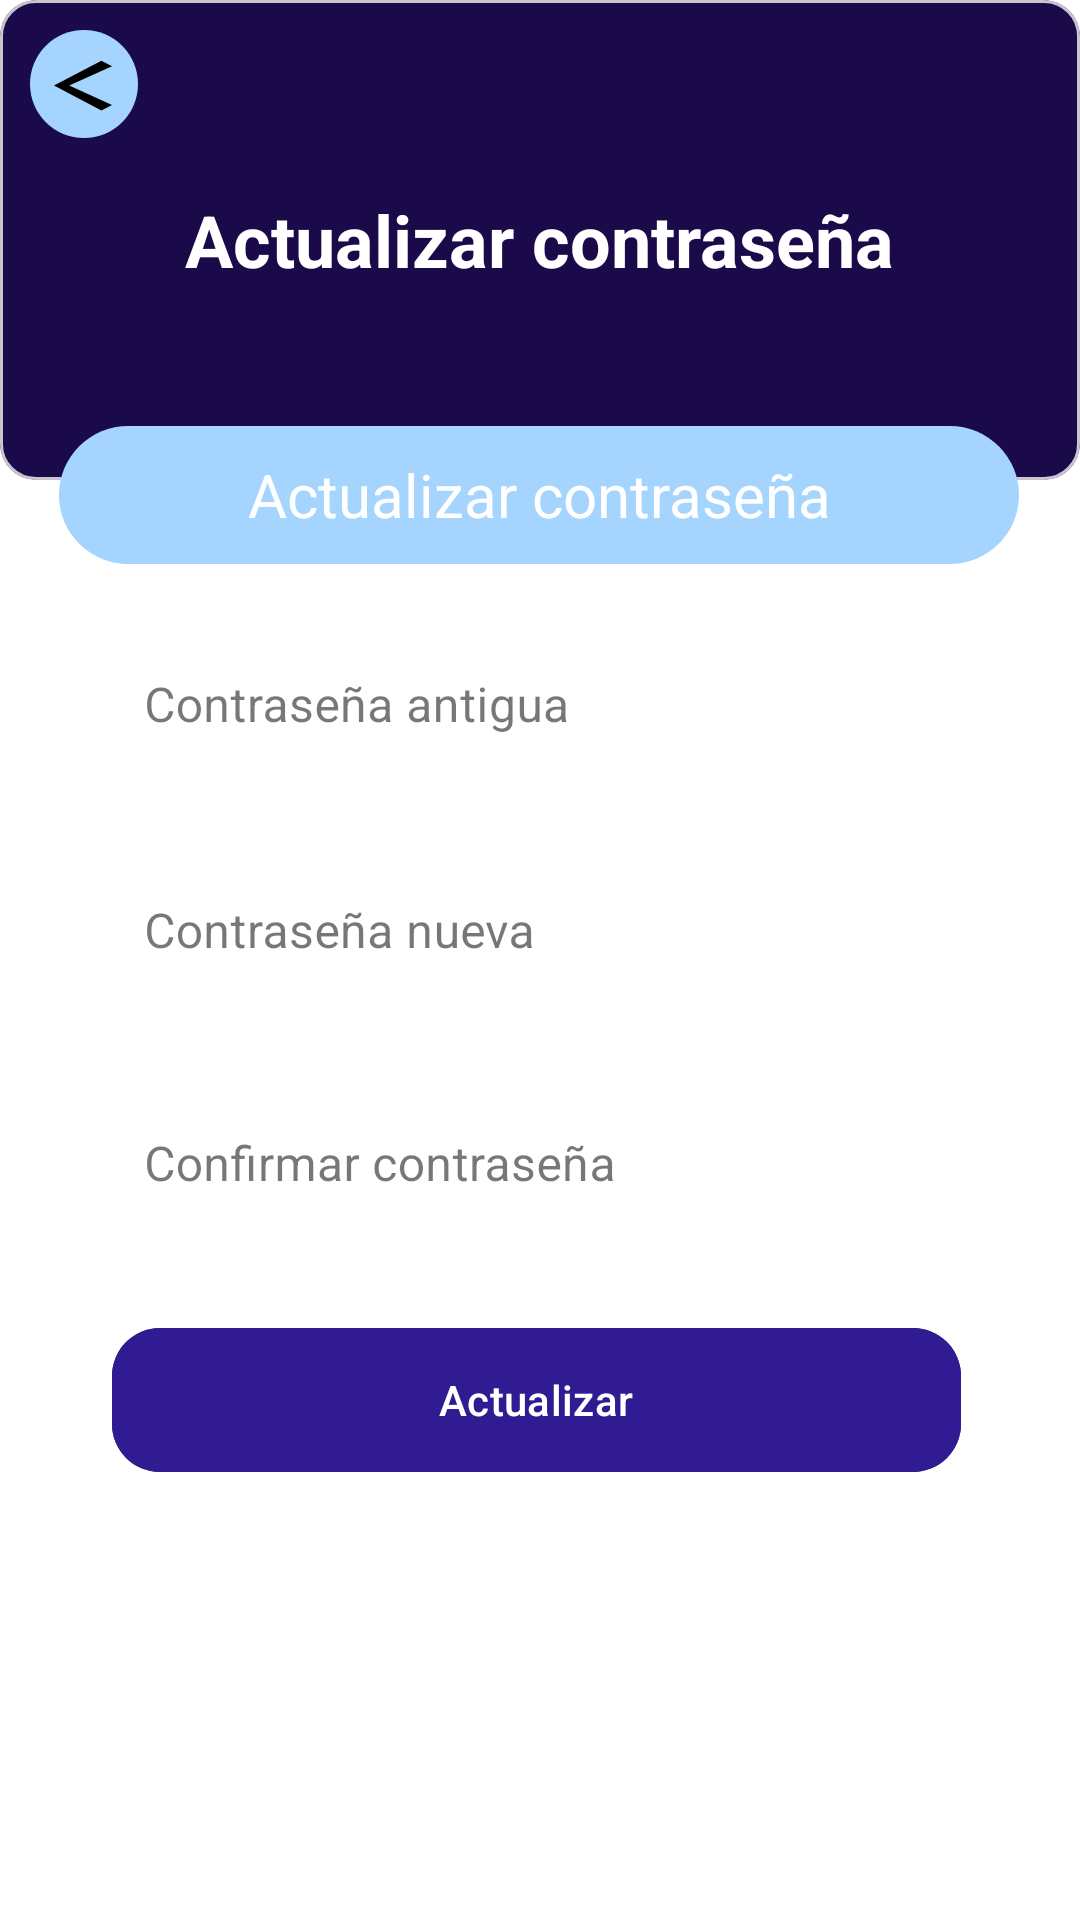

Screen size 1080*1920. Icon name, then its center in pixels as [x,y]:
arrow back: [84,84]
